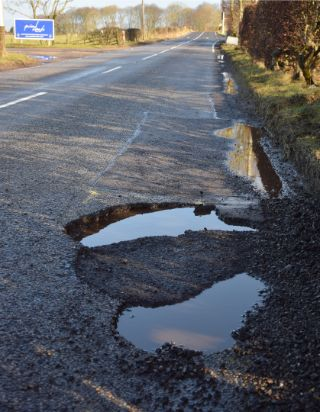pothole: (110, 267, 272, 364), (58, 197, 263, 252)
